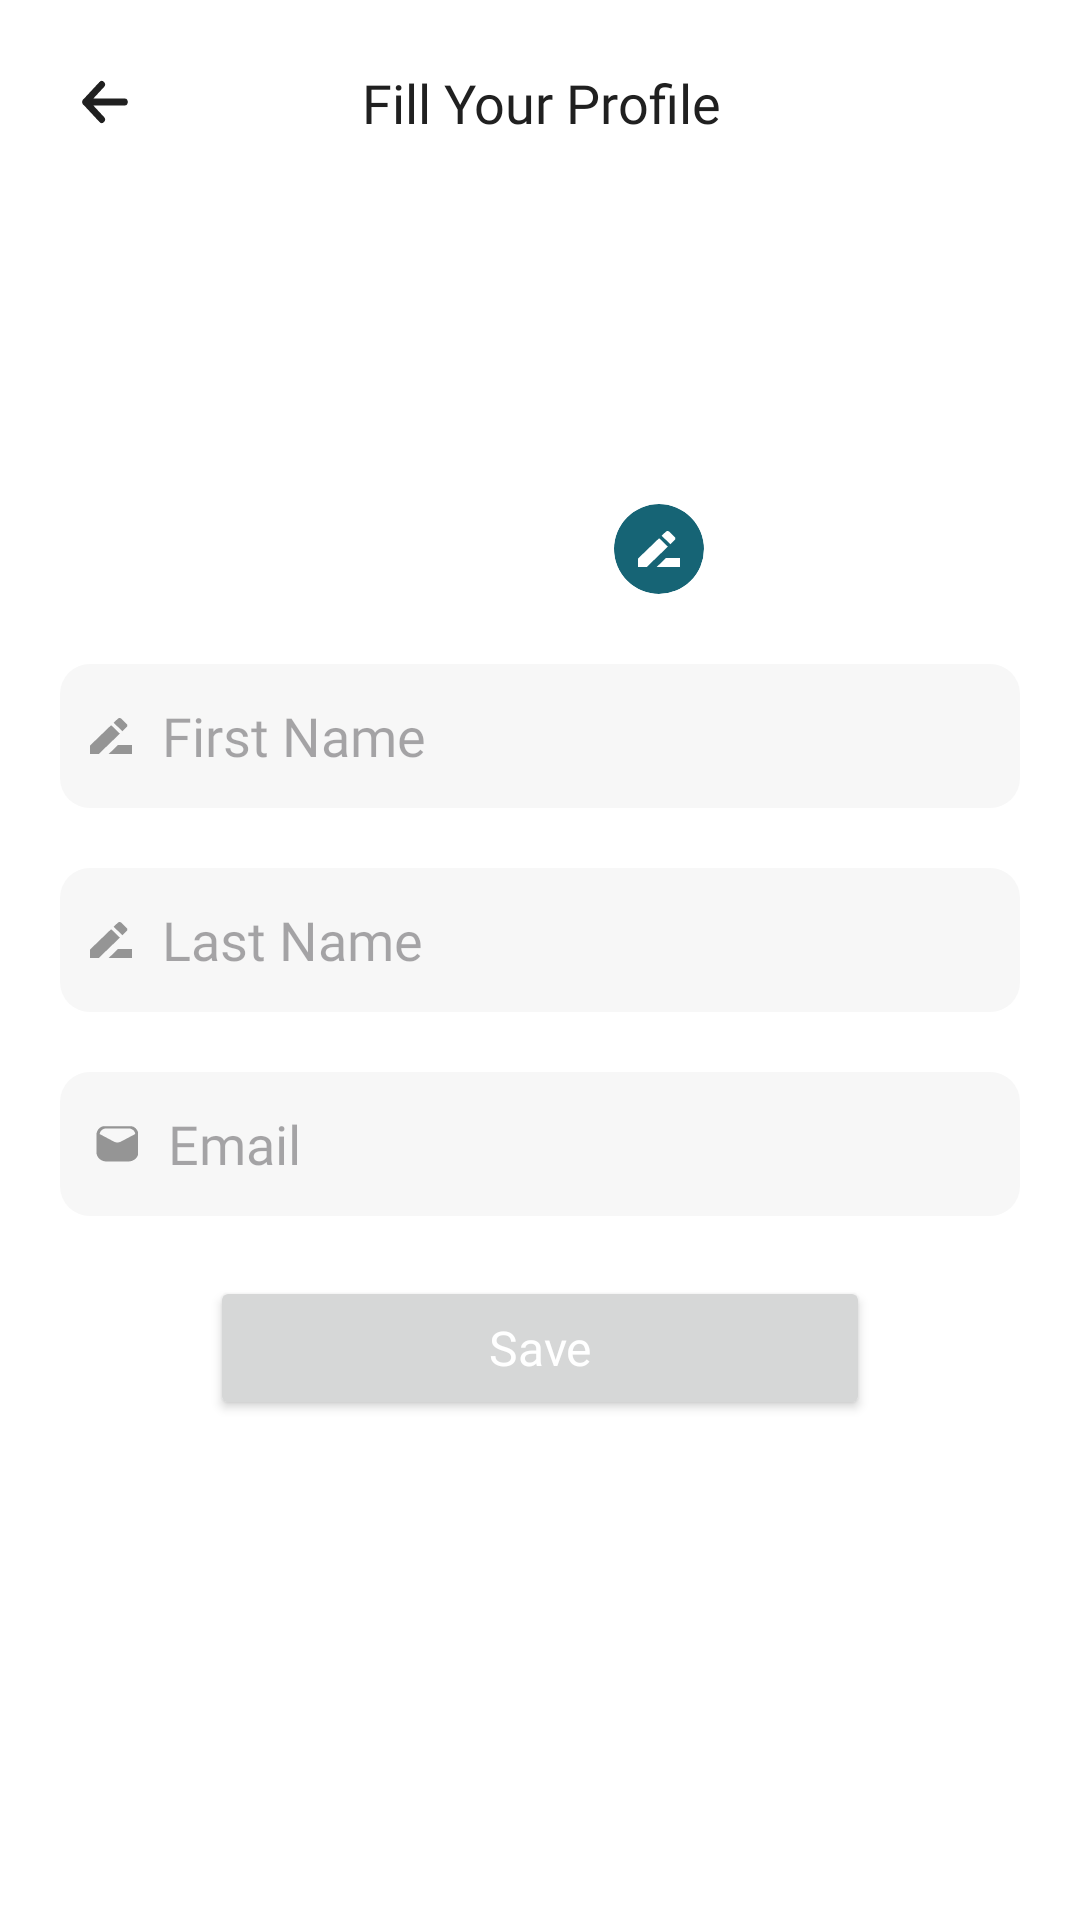

Point at icon controls on the screen. Image size 1080w x 1920h, points as [x,y].
arrow: [105,102]
writewhite: [659,549]
